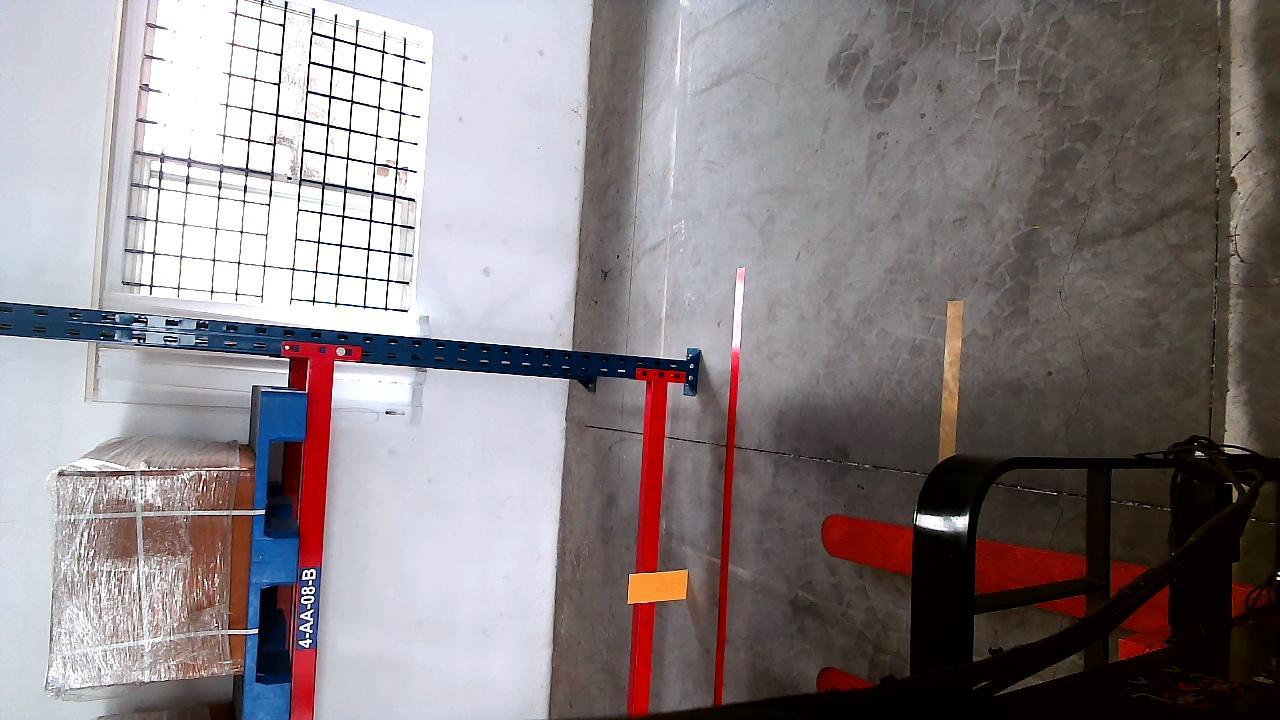red_line: (711, 267, 746, 706)
yellow_line: (935, 296, 966, 469)
